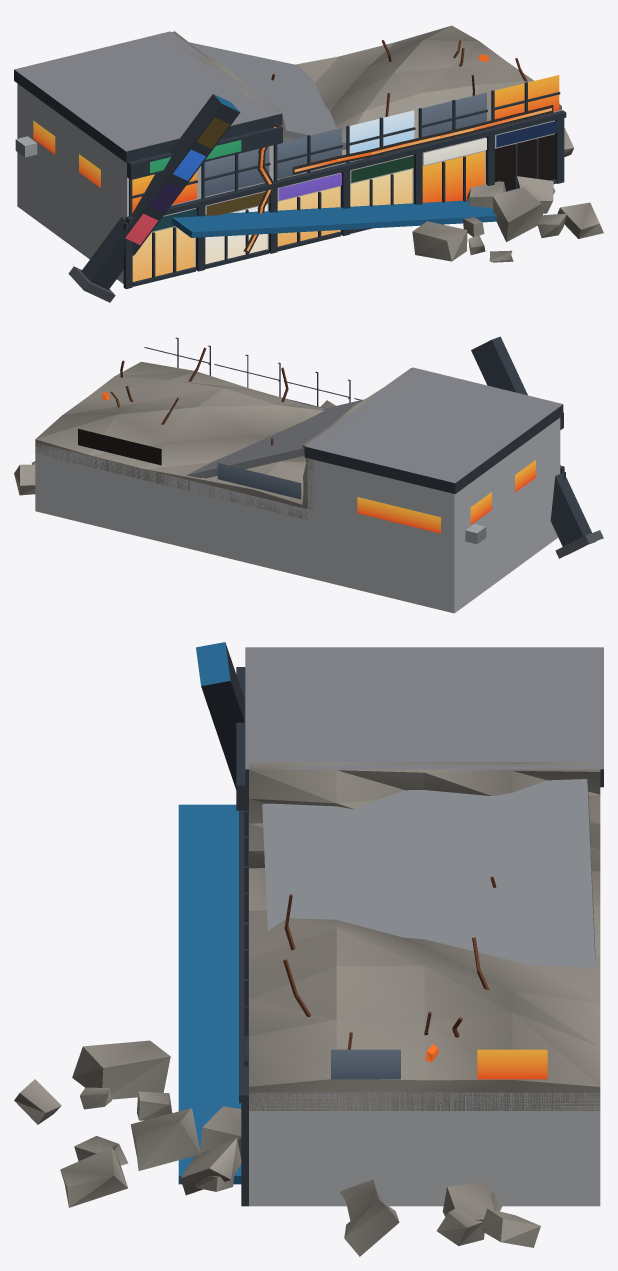
The model's file is bld_com_B_collapsed.meshopt.glb.
The picture shows the model from 3 angles, top to bottom: view 1: azimuth 30°, elevation 25°; view 2: azimuth 150°, elevation 25°; view 3: azimuth 270°, elevation 25°; orthographic projection. The views are drawn at different scales.
Parts seen in each view (by area): view 1: bld_com_B_collapsed; view 2: bld_com_B_collapsed; view 3: bld_com_B_collapsed.
Boxes of the visible parts, <box> form: bld_com_B_collapsed: <box>14,25,603,302</box>; bld_com_B_collapsed: <box>14,336,603,613</box>; bld_com_B_collapsed: <box>14,642,603,1256</box>.
Bounding box in the file's own units: 39.18 × 13.58 × 23.52.
